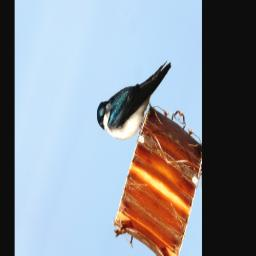Swallow: (93, 21, 174, 163)
